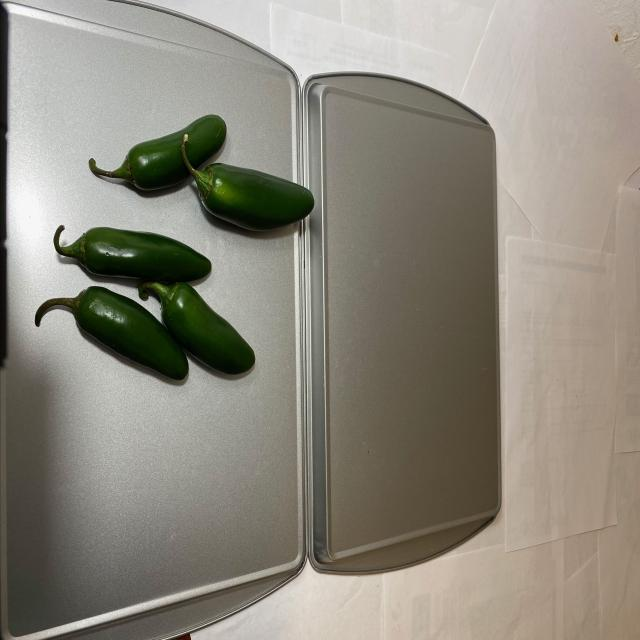chilli: (29, 112, 320, 386)
